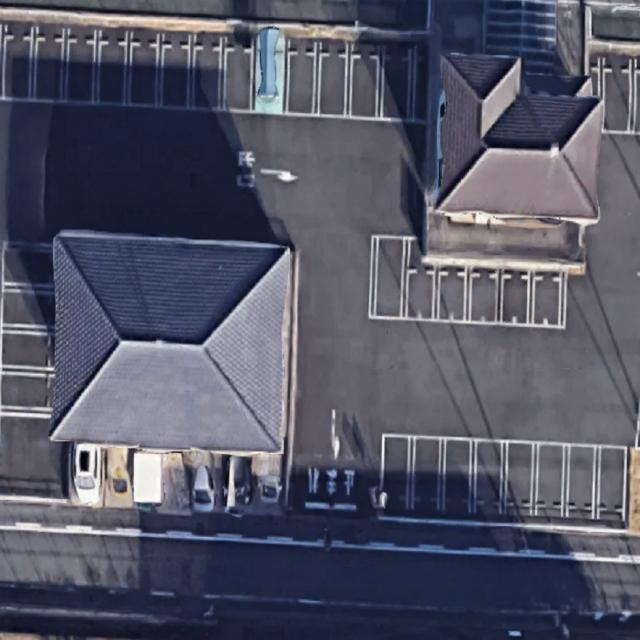Batiment: (52, 231, 291, 453), (426, 55, 602, 264)
